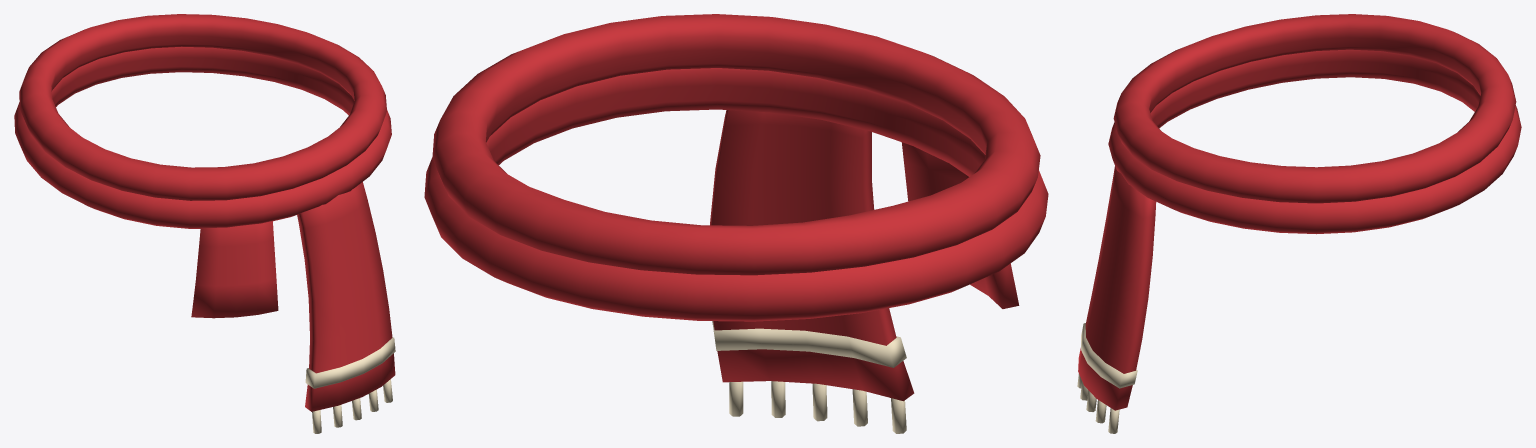
File: cuello_bufanda.glb
3 views of the same model, side by side, from view 1: azimuth 30°, elevation 25°; view 2: azimuth 150°, elevation 25°; view 3: azimuth 270°, elevation 25° (orthographic). The views are drawn at different scales.
Parts seen in each view (by area): view 1: cuello_bufanda; view 2: cuello_bufanda; view 3: cuello_bufanda.
Boxes of the visible parts, x1,y1,x2,y2 form: cuello_bufanda: [14, 14, 395, 433]; cuello_bufanda: [424, 14, 1048, 433]; cuello_bufanda: [1077, 14, 1521, 433].
Size of the model in its own units: 0.8029 by 0.6425 by 0.8631.
